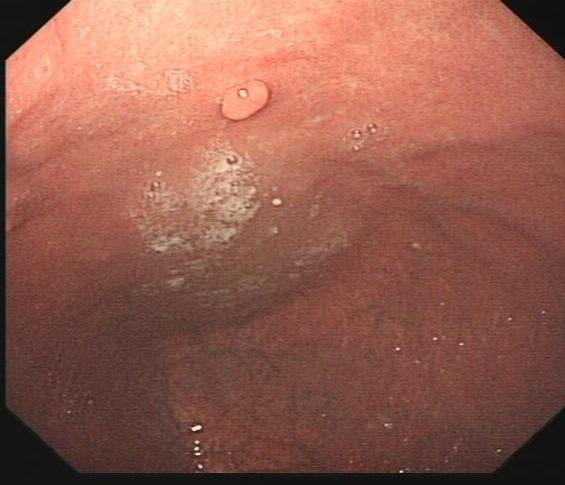Polyp: (216, 77, 273, 128)
